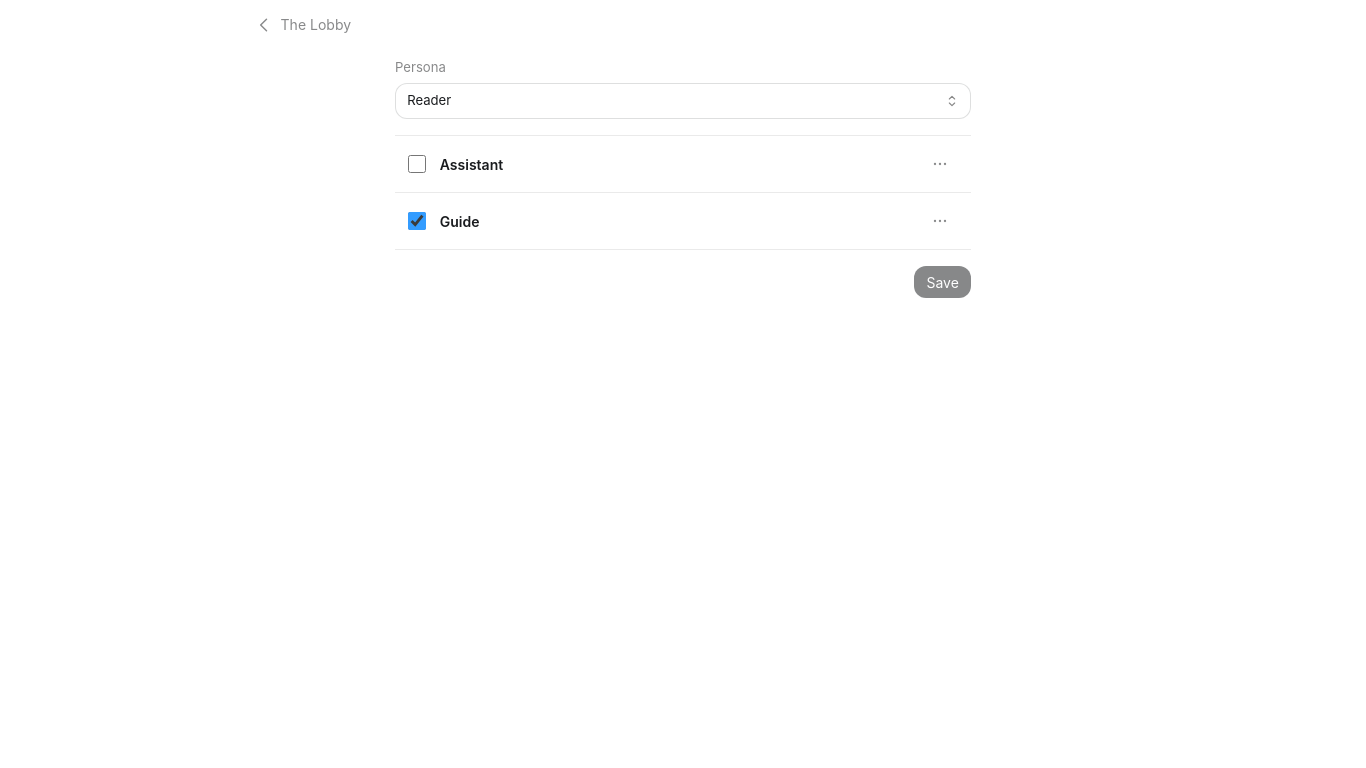
Test: shows copy success only after the clipboard write succeeds and clears it on failure
Click the button named "Show system prompt for Guide": point(940, 221) x1=922 y1=203 x2=958 y2=239
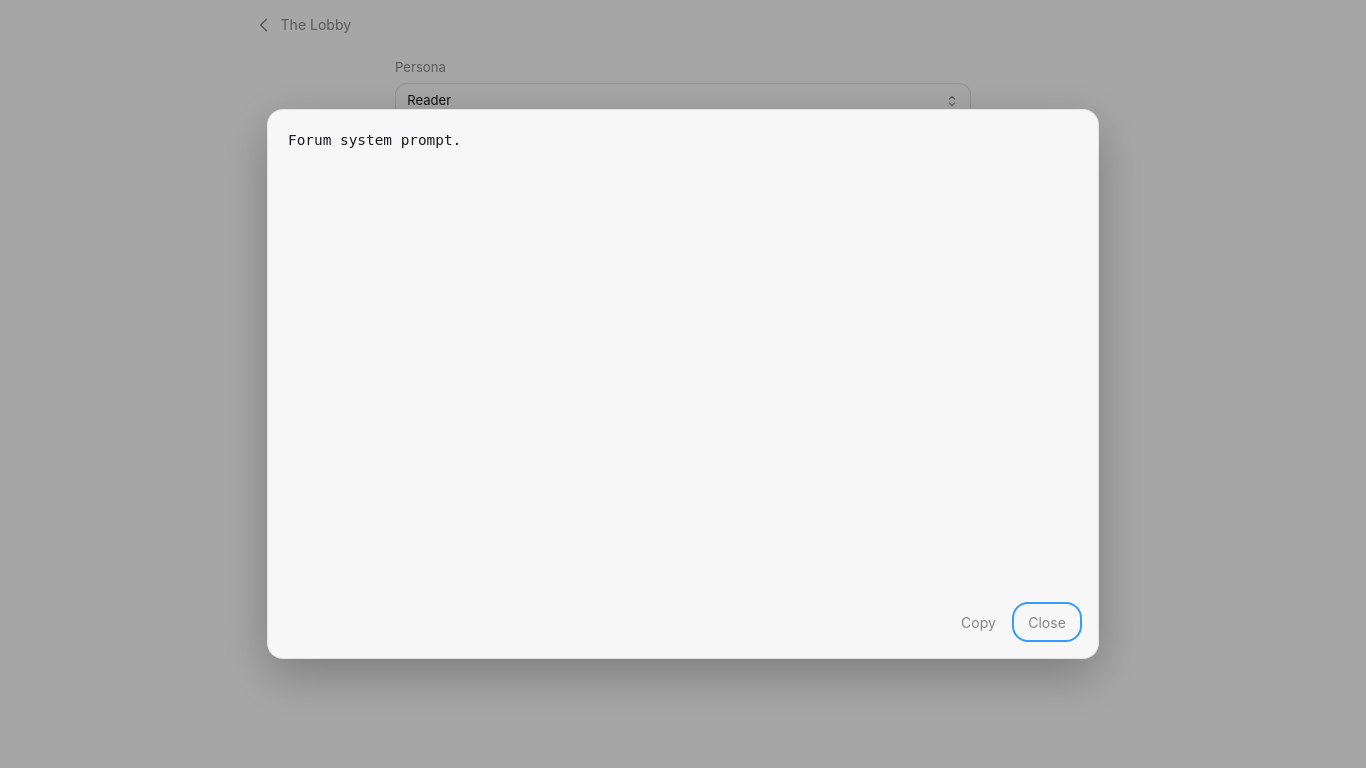
Check: the text labelled "system prompt" is shown, box x1=288 y1=132 x2=461 y2=148
Click the button "Copy": point(978, 622) x1=949 y1=606 x2=1008 y2=638
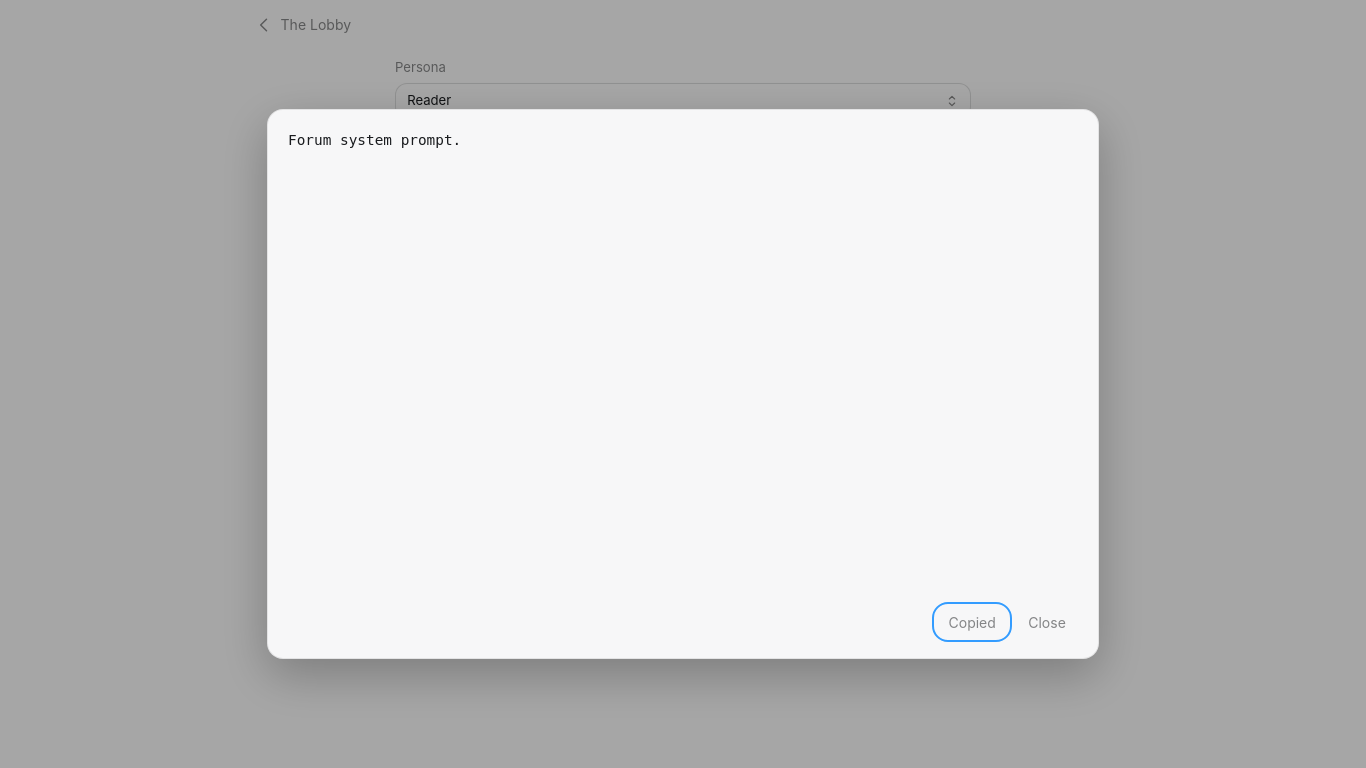
Click the button "Copied": point(972, 622) x1=936 y1=606 x2=1008 y2=638
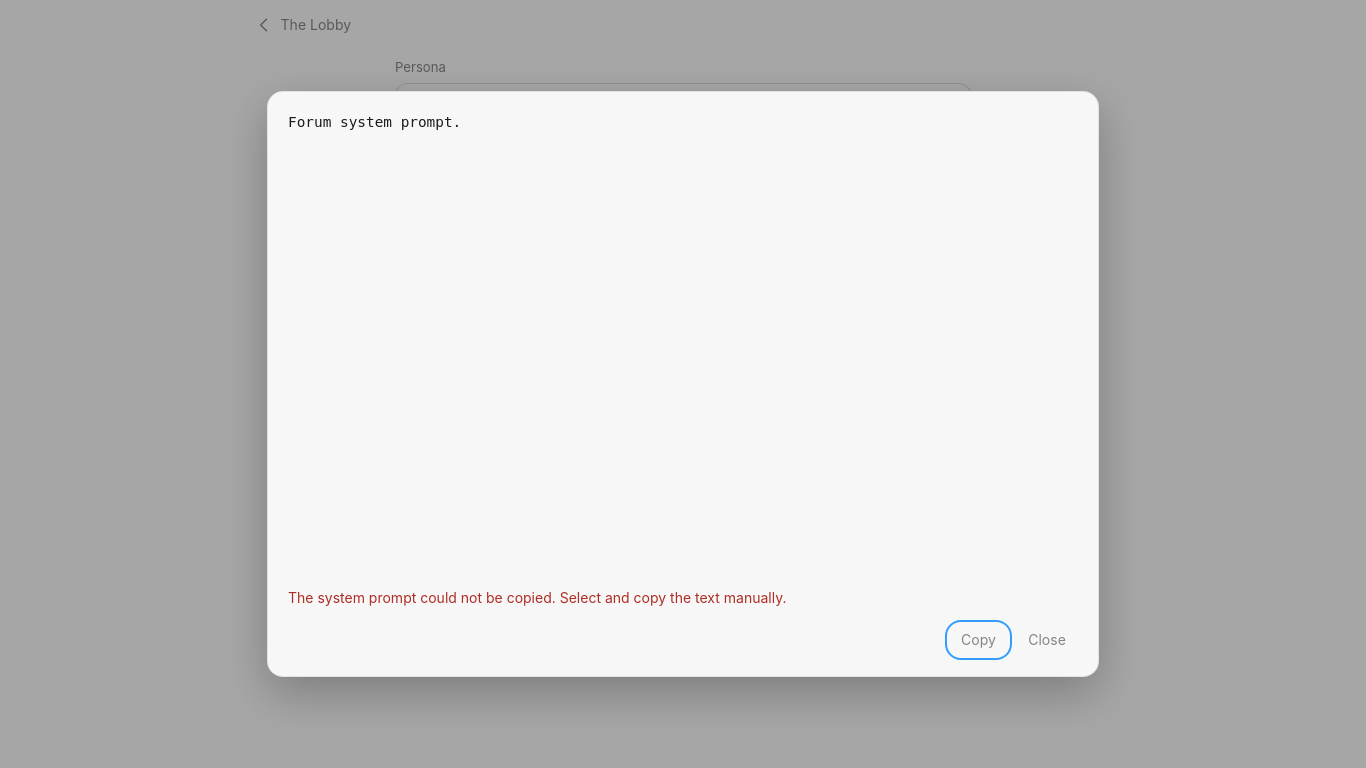
Check: the button "Copy" is enabled, box x1=949 y1=624 x2=1008 y2=656
Check: the message shows "The system prompt could not be copied.", box x1=288 y1=589 x2=786 y2=606
